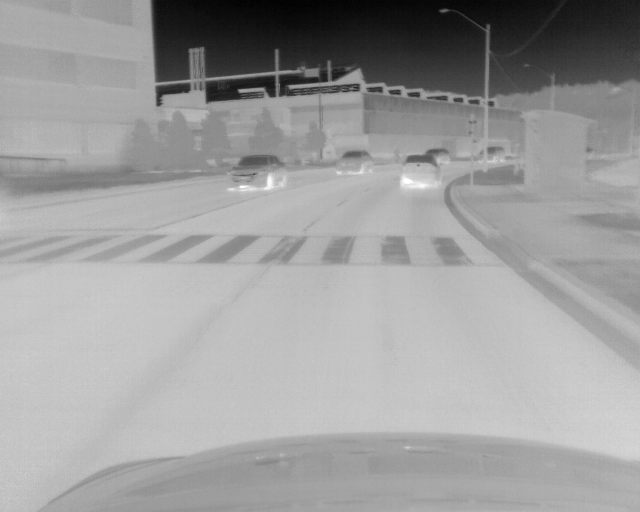car: (226, 154, 287, 192), (398, 154, 439, 190), (336, 148, 374, 177), (476, 145, 506, 165), (425, 148, 450, 164)
